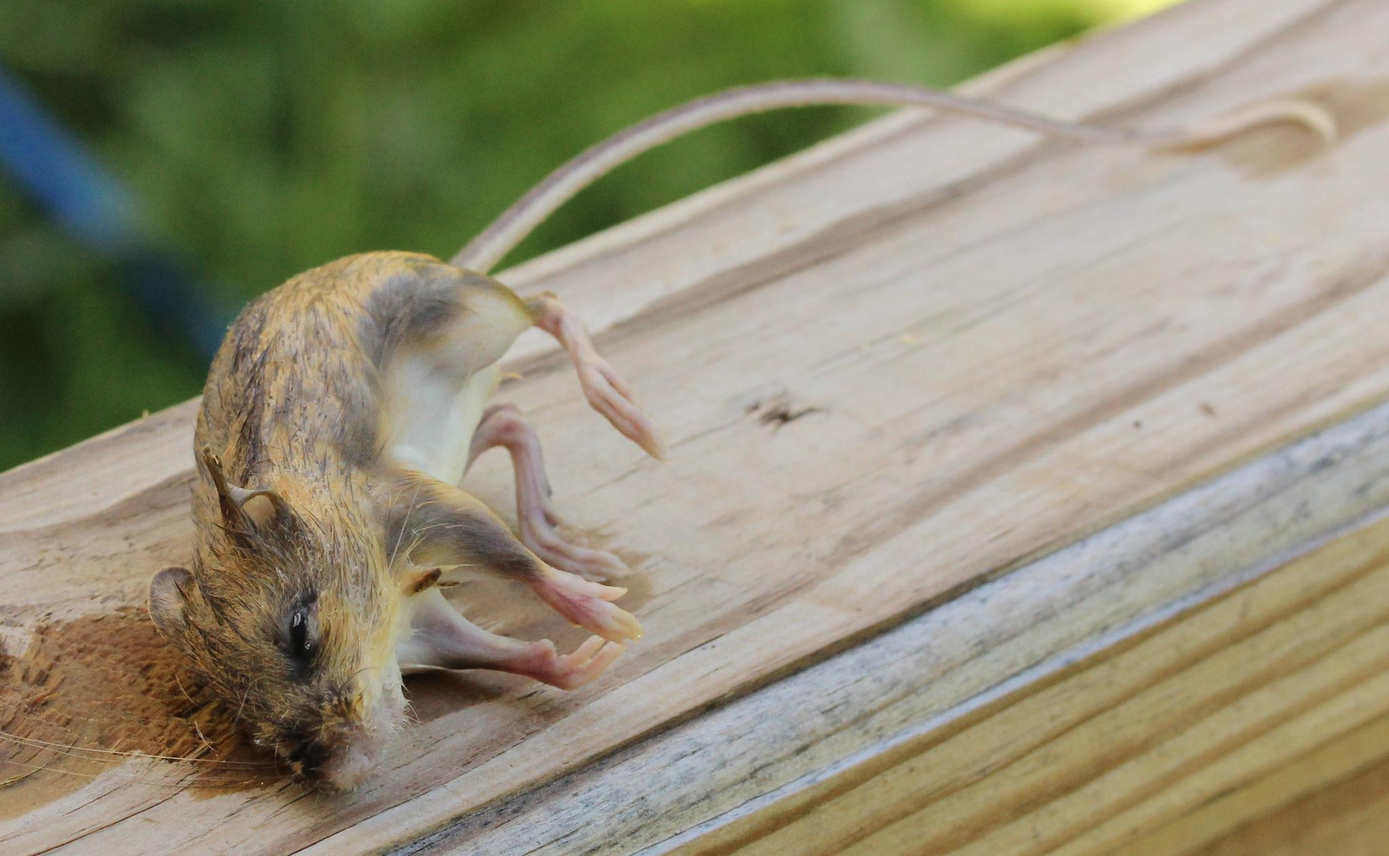rat: (152, 74, 1334, 797)
